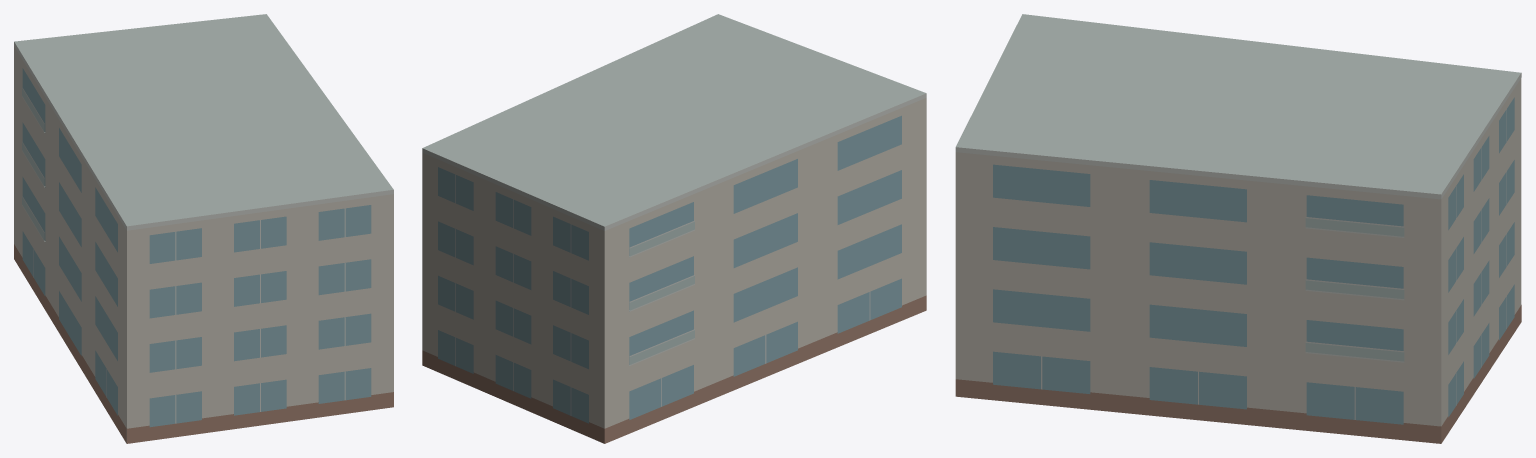
Rendered from residential-5a51a385-8083-4d32-a6aa-ae8a9bb2e6fd.glb.
3 views of the same model, side by side, from view 1: azimuth 30°, elevation 25°; view 2: azimuth 150°, elevation 25°; view 3: azimuth 270°, elevation 25° (orthographic). The views are drawn at different scales.
Visible parts, largest first — view 1: residential-5a51a385-8083-4d32-a6aa-ae8a9bb2e6fd.tmp; view 2: residential-5a51a385-8083-4d32-a6aa-ae8a9bb2e6fd.tmp; view 3: residential-5a51a385-8083-4d32-a6aa-ae8a9bb2e6fd.tmp.
Part boxes in pixels (x1,y1,x2,y2): residential-5a51a385-8083-4d32-a6aa-ae8a9bb2e6fd.tmp: (14,14,393,443); residential-5a51a385-8083-4d32-a6aa-ae8a9bb2e6fd.tmp: (422,14,926,443); residential-5a51a385-8083-4d32-a6aa-ae8a9bb2e6fd.tmp: (955,14,1521,443).
Bounding box in the file's own units: 18.94 × 12.2 × 25.09.
